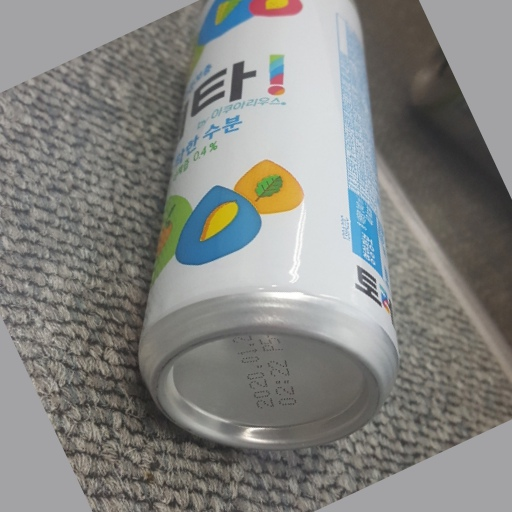Metal_0: (137, 2, 401, 450)
